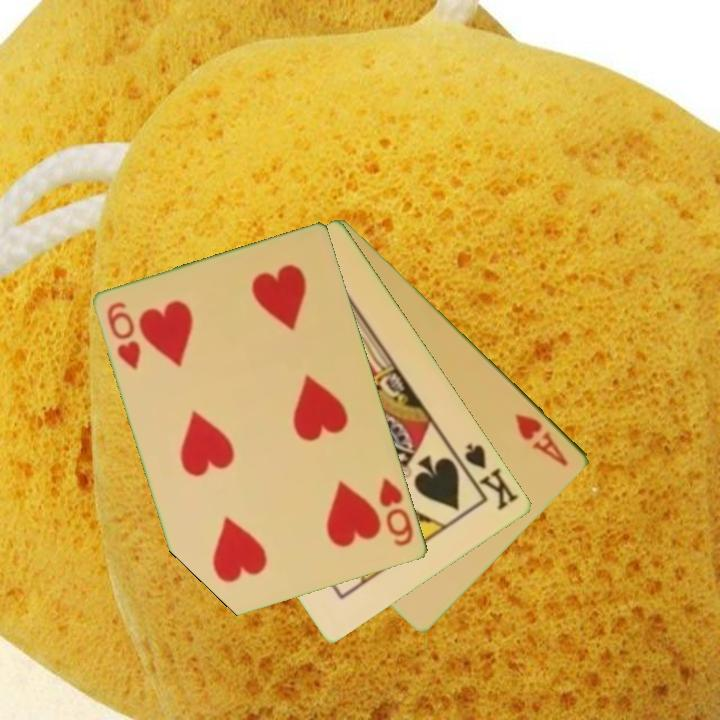6h: (376, 474, 417, 550), (104, 298, 144, 374)
Ah: (511, 410, 572, 470)
Ks: (452, 439, 523, 513)
